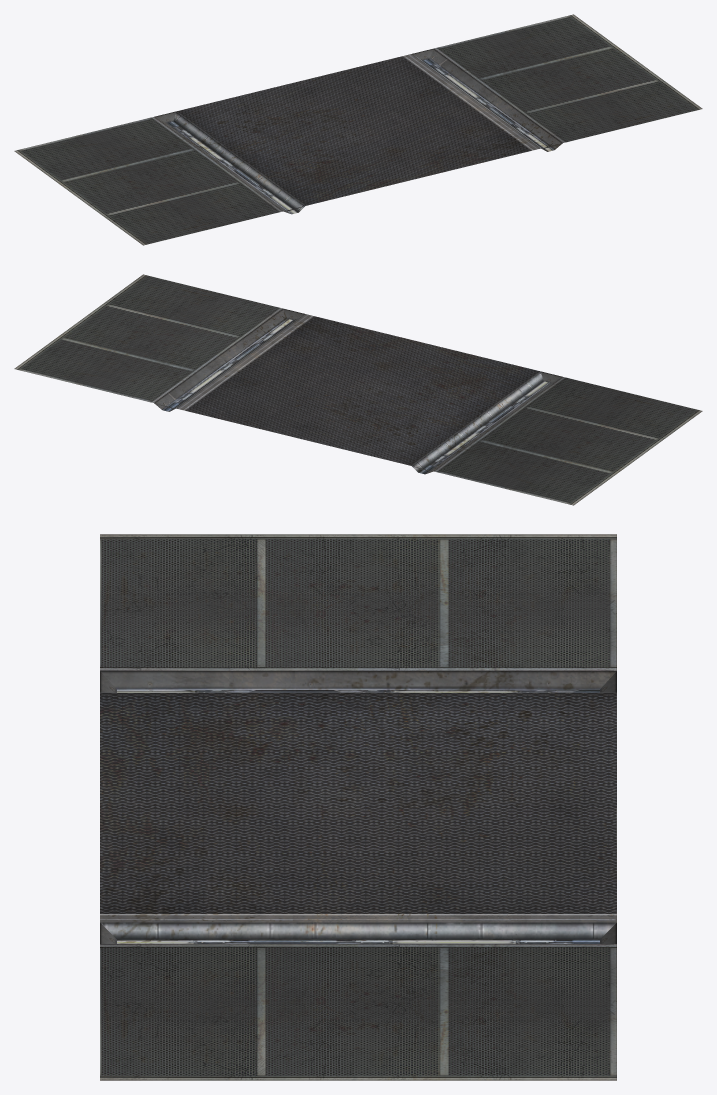
Rendered from Floor_B_5mts_04.fbx.
3 views of the same model, one above another, from view 1: azimuth 30°, elevation 25°; view 2: azimuth 150°, elevation 25°; view 3: azimuth 270°, elevation 25° (orthographic). The views are drawn at different scales.
Visible parts, largest first — view 1: Floor_B_5mts_04; view 2: Floor_B_5mts_04; view 3: Floor_B_5mts_04.
Part boxes in pixels (x1=…): Floor_B_5mts_04: x1=14, y1=14, x2=702, y2=245; Floor_B_5mts_04: x1=14, y1=274, x2=702, y2=505; Floor_B_5mts_04: x1=100, y1=534, x2=616, y2=1080.
Bounding box in the file's own units: 500 × 4.45 × 200.
Materials: 1 (1 with a texture image).
